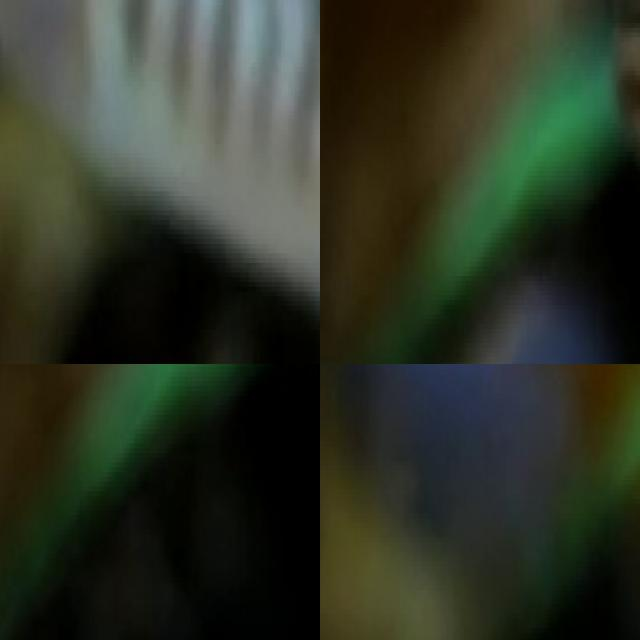fish: (0, 0, 320, 364), (328, 364, 576, 590)
